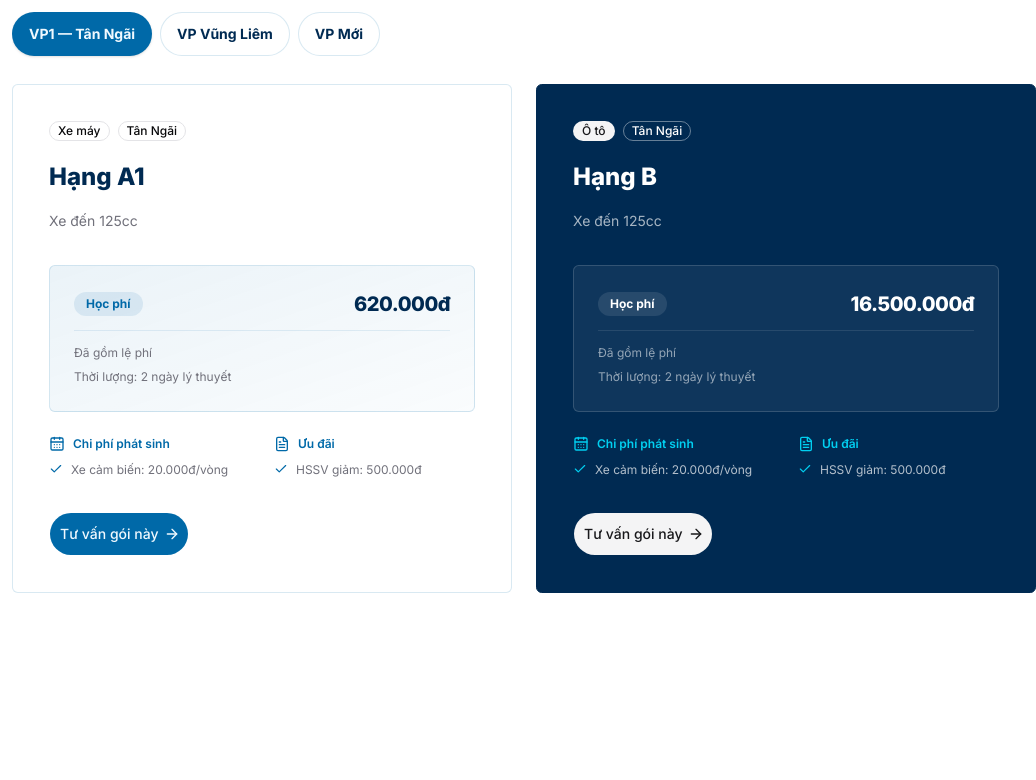
Test: PricingSection › chi nhánh không có gói → thông báo, không vỡ
Click the tab "VP Mới".
click(339, 34)  # box [298, 12, 380, 56]
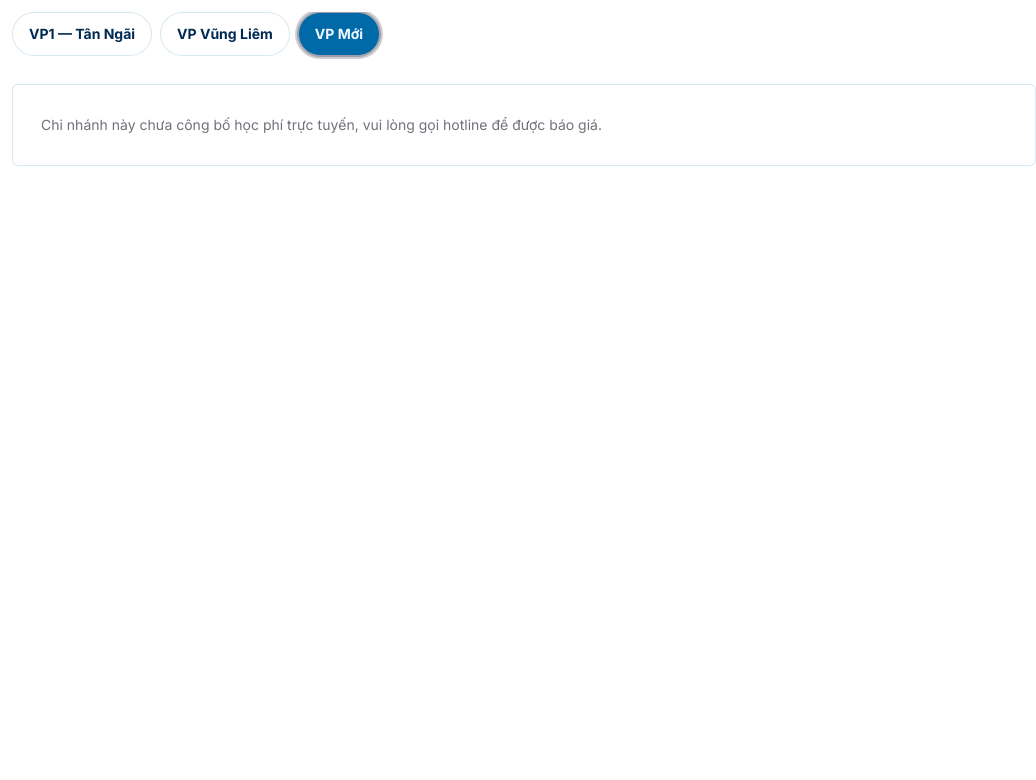
Check: the text "chưa công bố học phí" is shown, box [41, 116, 602, 133]
